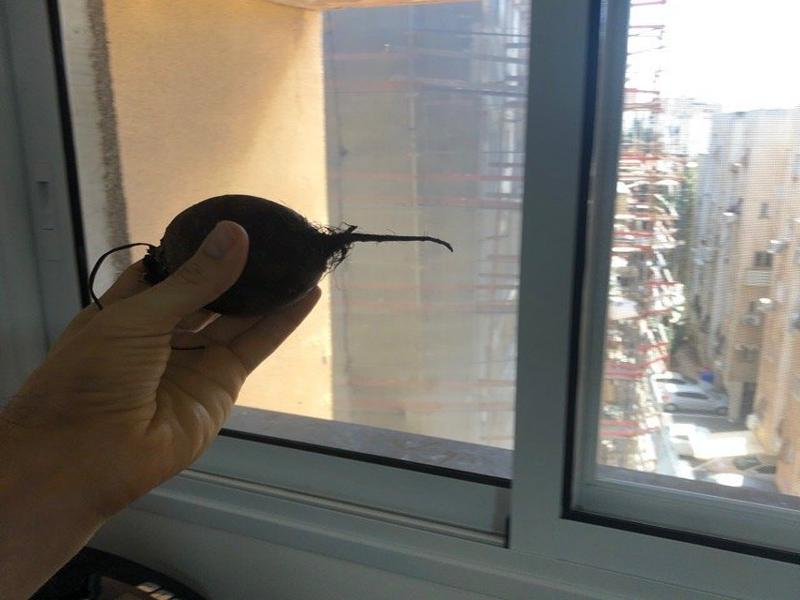Beet: (89, 194, 454, 352)
